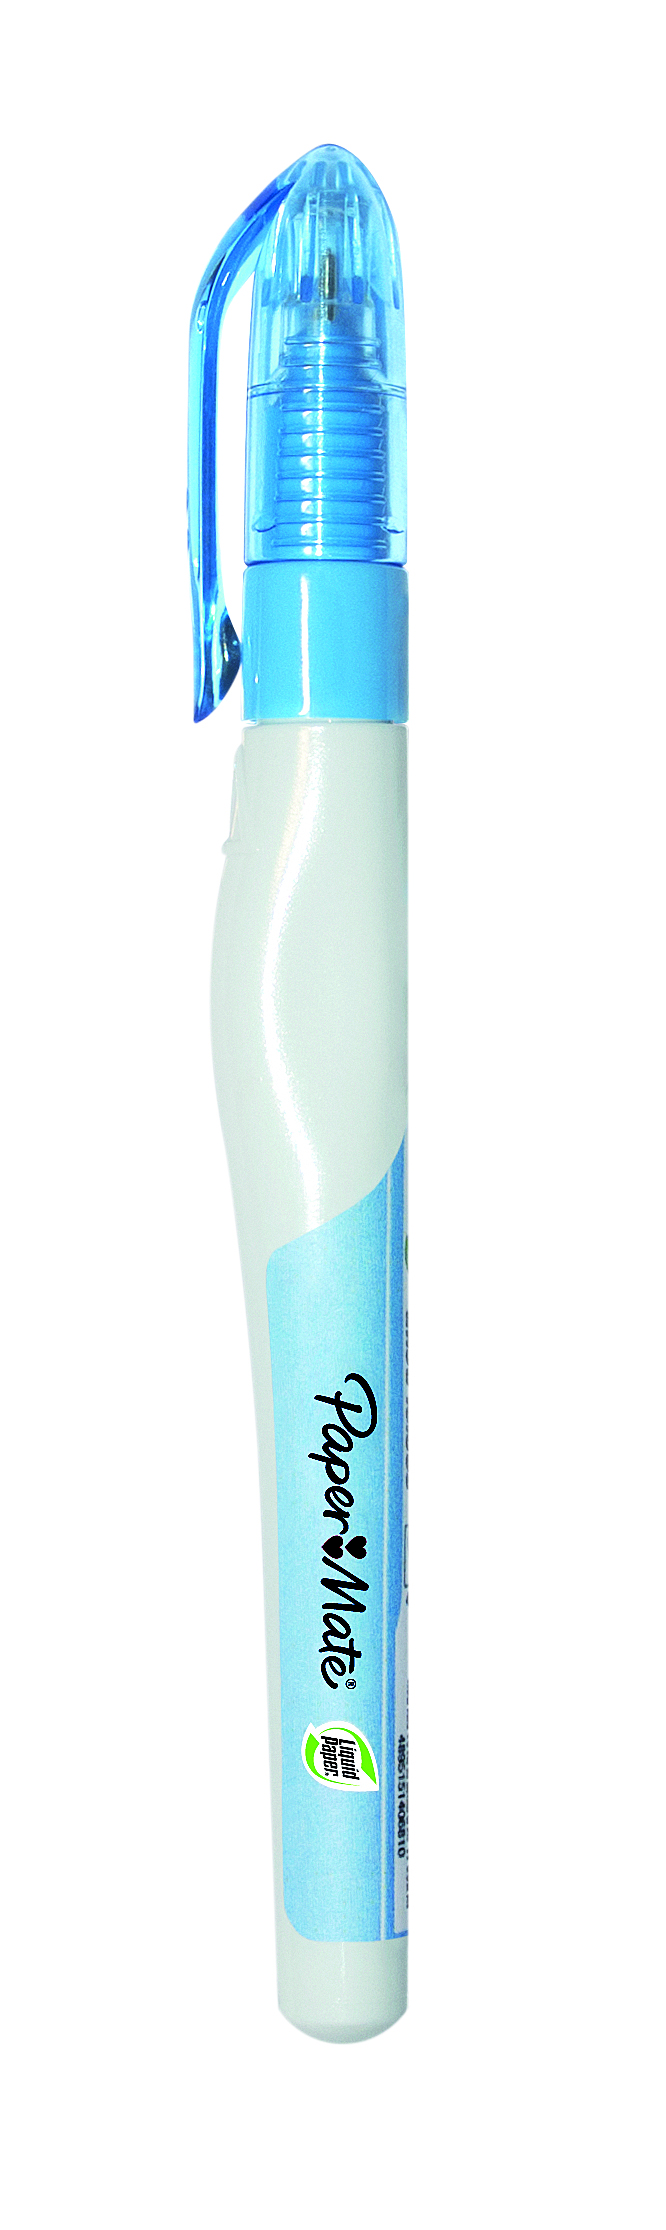Correction_fluid: (169, 127, 441, 2079)
